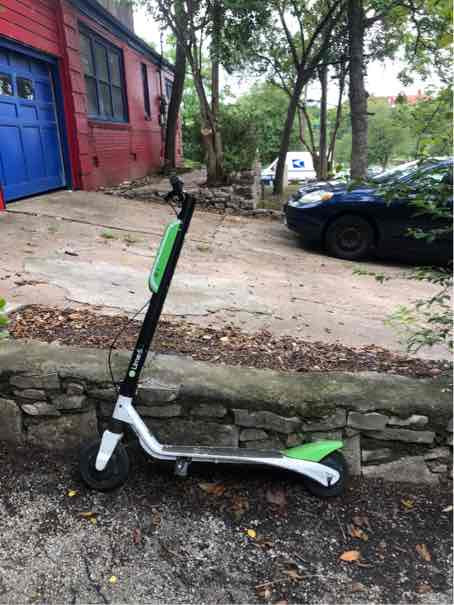scooter: (91, 166, 349, 507)
